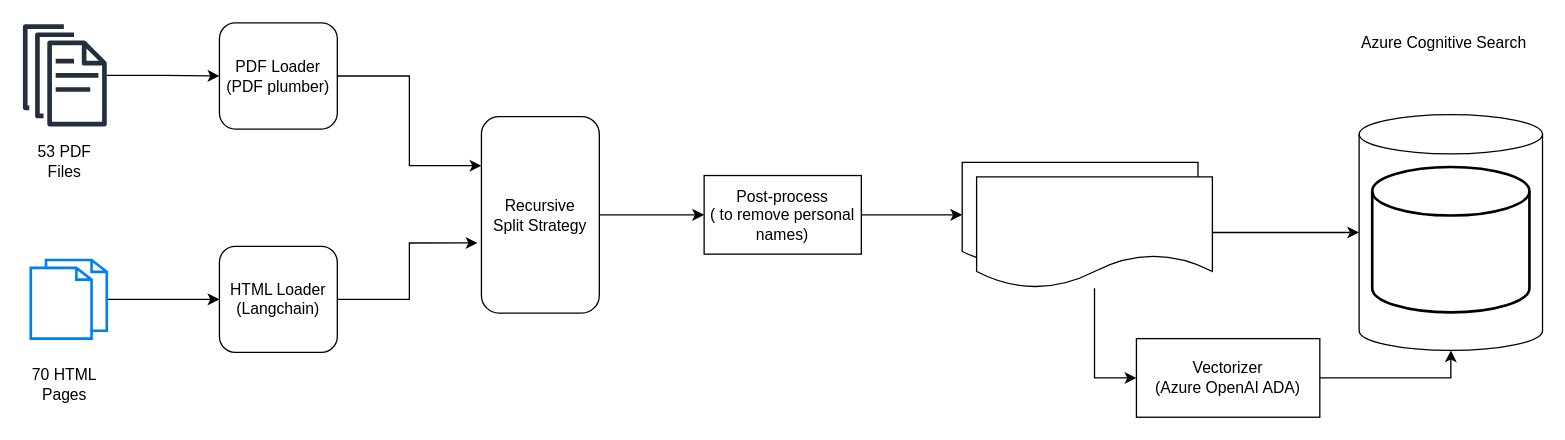
Some shapes in this 1565 by 440 pixel diagram are drawn without their labels. Here are the shapes that lost their labels. From the top down, the centre of each, then its label:
the point at 1093,232: N....Knowledge Chunks
the point at 1450,239: PDF + HTML Index
